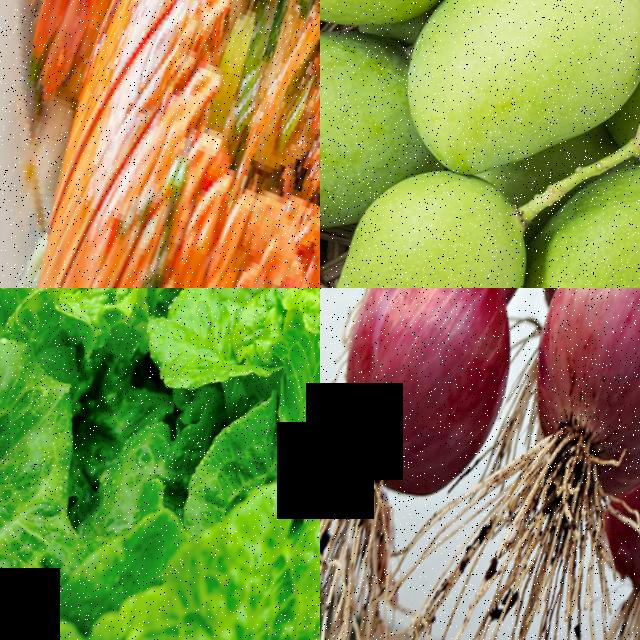lettuce: (37, 414, 320, 640), (136, 288, 320, 503), (0, 288, 203, 396)
lobster tails: (0, 0, 320, 288), (170, 15, 320, 288)
mango: (364, 0, 640, 224), (320, 140, 554, 288), (320, 0, 422, 266), (495, 129, 640, 288)
onion: (320, 288, 561, 515), (484, 288, 640, 505), (606, 402, 640, 608)
